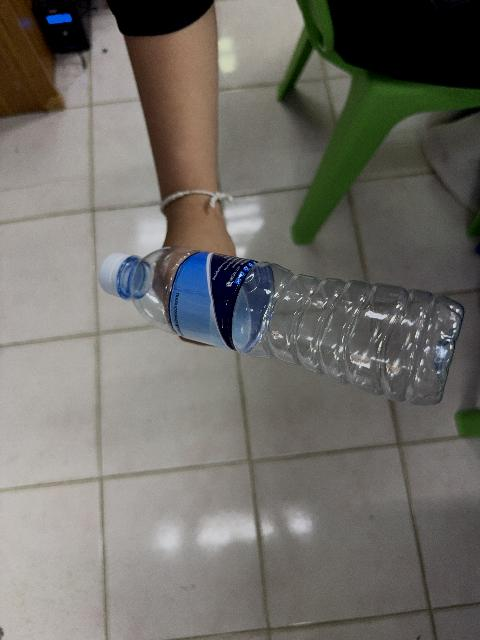bottle: (100, 248, 463, 404)
